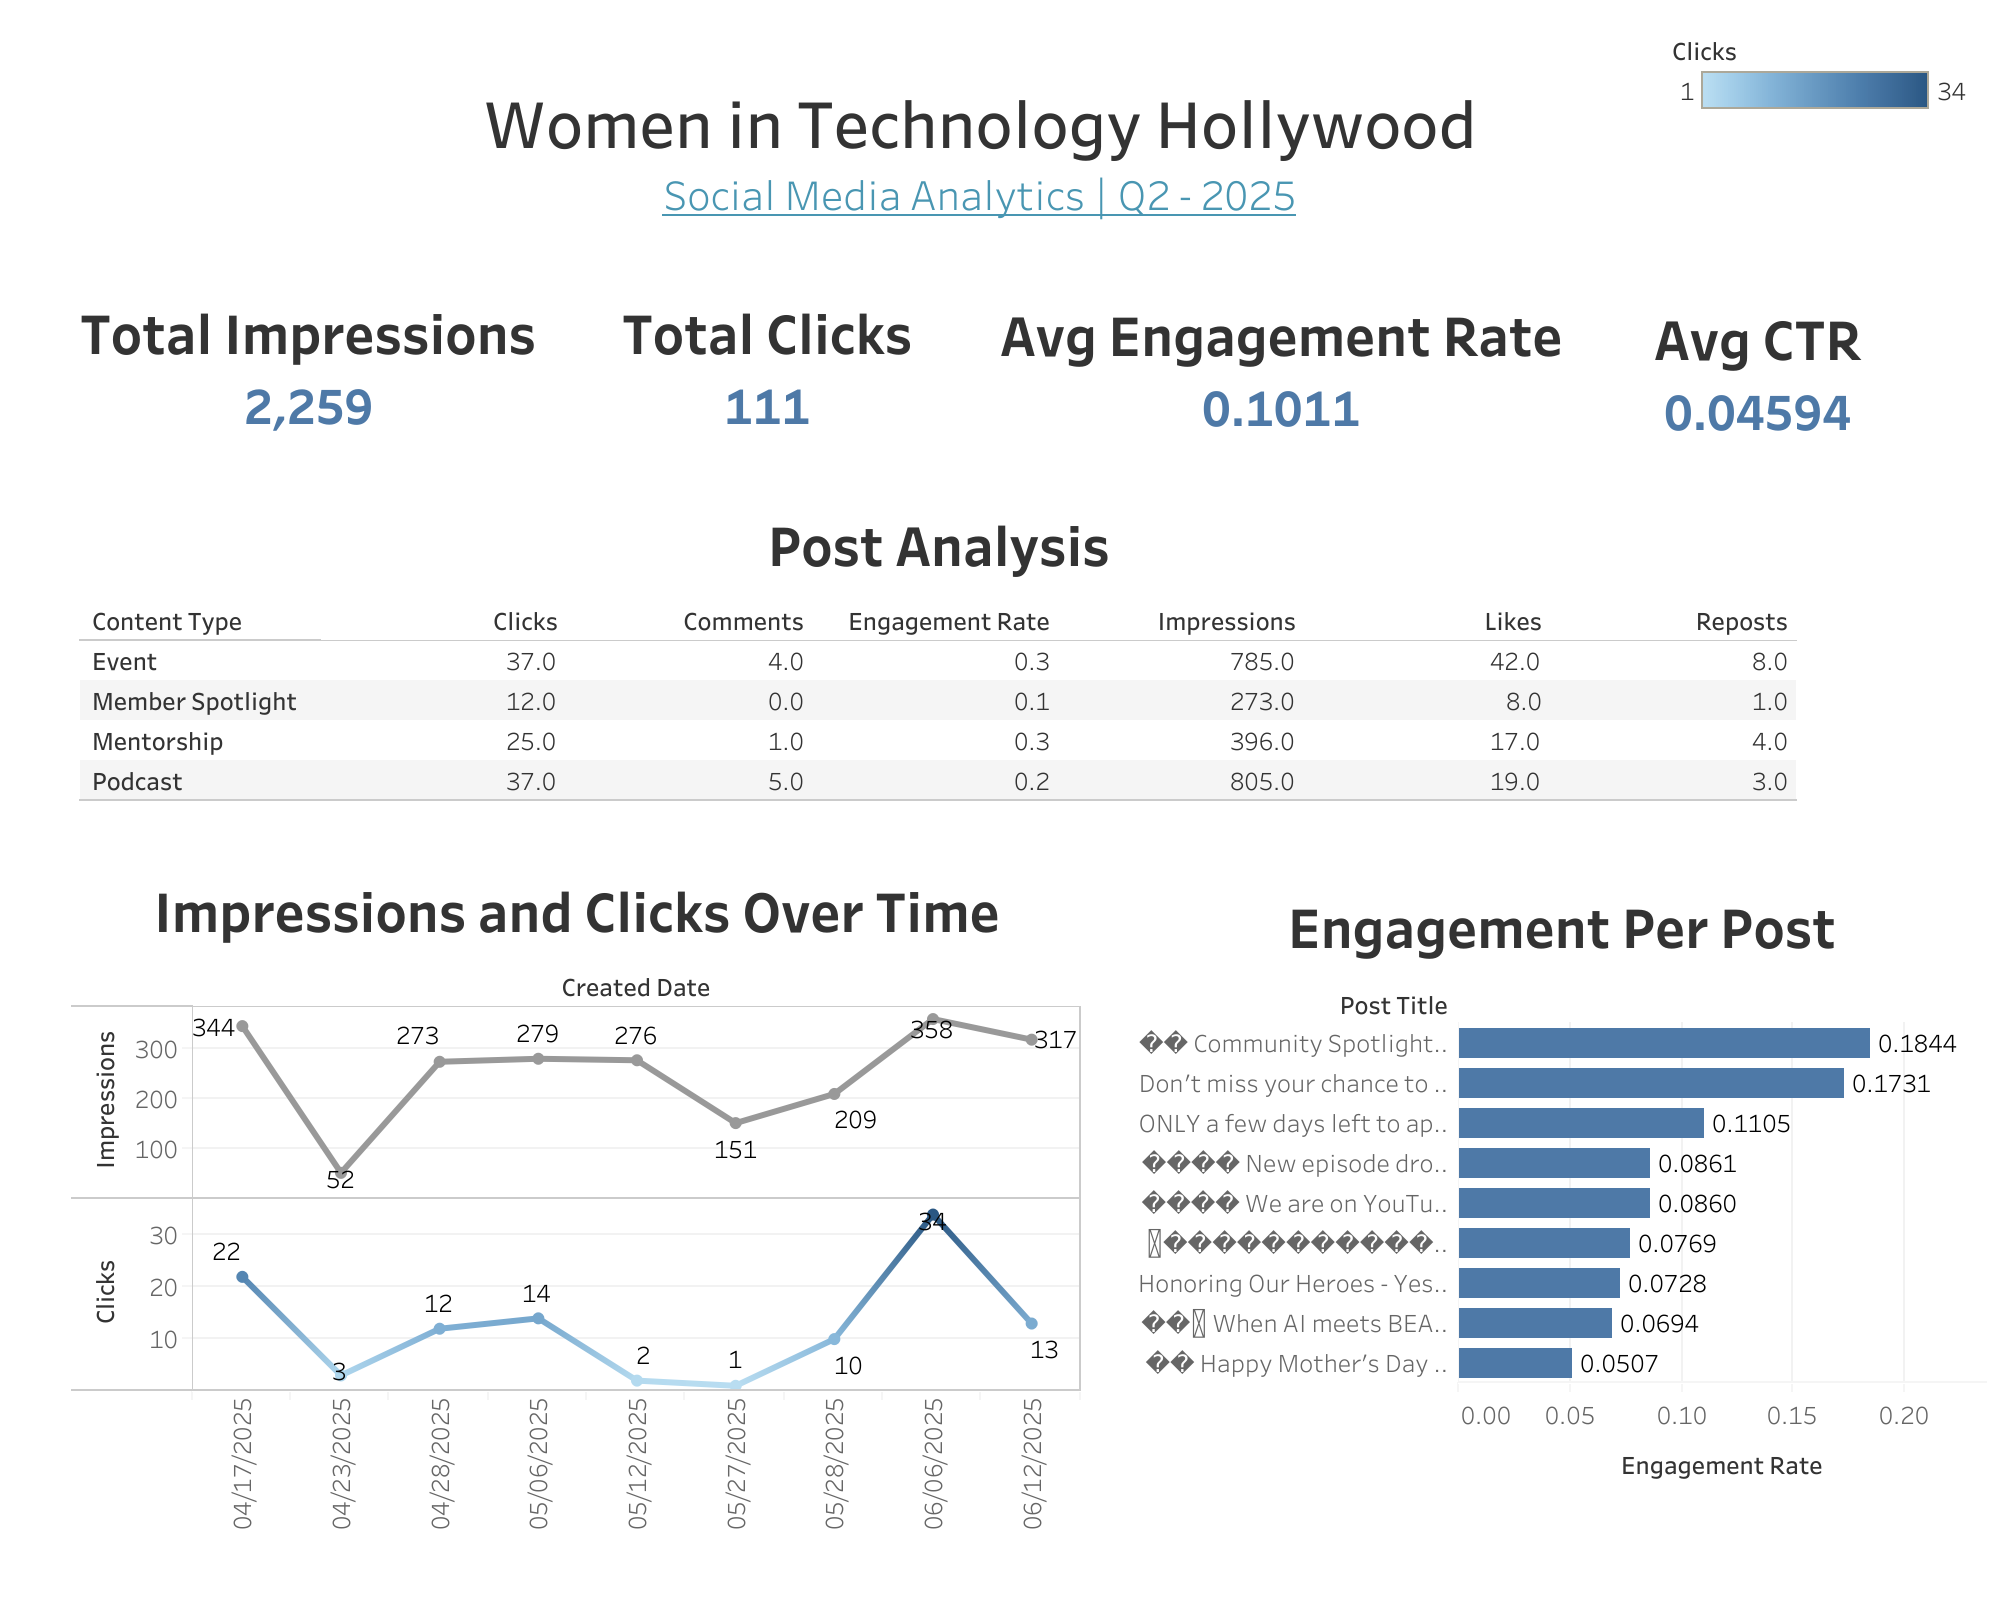

The dashboard page shown, as its layout file describes it:
{"tool":"tableau","page":{"name":"WiTH Q2","canvas":[1000,800],"ordinal":0},"visuals":[{"type":"legend","title":"Impressions and Clicks Over time","param":"[federated.0yq55ep096qc8f181sgh105d8qah].[sum:clicks:qk]","box":[832,8,160,68]},{"type":"worksheet","title":"Title","mark":"Automatic","box":[33,33,914,114]},{"type":"worksheet","title":"Total Impressions","mark":"Text","box":[35,147,244,74]},{"type":"worksheet","title":"Total Clicks","mark":"Automatic","box":[304,147,175,81]},{"type":"worksheet","title":"Avg Eng Rate","mark":"Automatic","box":[491,148,333,87]},{"type":"worksheet","title":"Avg CTR","mark":"Automatic","box":[819,150,139,82]},{"type":"worksheet","title":"Top Posts","mark":"Automatic","rows":["content_type"],"box":[40,247,931,185]},{"type":"worksheet","title":"Impressions and Clicks Over time","mark":"Line","rows":["impressions","clicks"],"cols":["created_date"],"box":[36,430,505,337]},{"type":"worksheet","title":"Engagement Per Post","mark":"Automatic","rows":["post_title"],"cols":["engagement_rate"],"box":[569,438,424,341]}]}

Visuals, with their boxes in screenshot pixels (x1, y1, x2, y2), scaled from the page's 1000x800 canvas onto the 1998x1598 screenshot:
"Impressions and Clicks Over time" legend: crop(1662, 16, 1982, 152)
"Title" worksheet: crop(66, 66, 1892, 294)
"Total Impressions" worksheet (Text marks): crop(70, 294, 557, 441)
"Total Clicks" worksheet: crop(607, 294, 957, 455)
"Avg Eng Rate" worksheet: crop(981, 296, 1646, 469)
"Avg CTR" worksheet: crop(1636, 300, 1914, 463)
"Top Posts" worksheet: crop(80, 493, 1940, 863)
"Impressions and Clicks Over time" worksheet (Line marks): crop(72, 859, 1081, 1532)
"Engagement Per Post" worksheet: crop(1137, 875, 1984, 1556)
